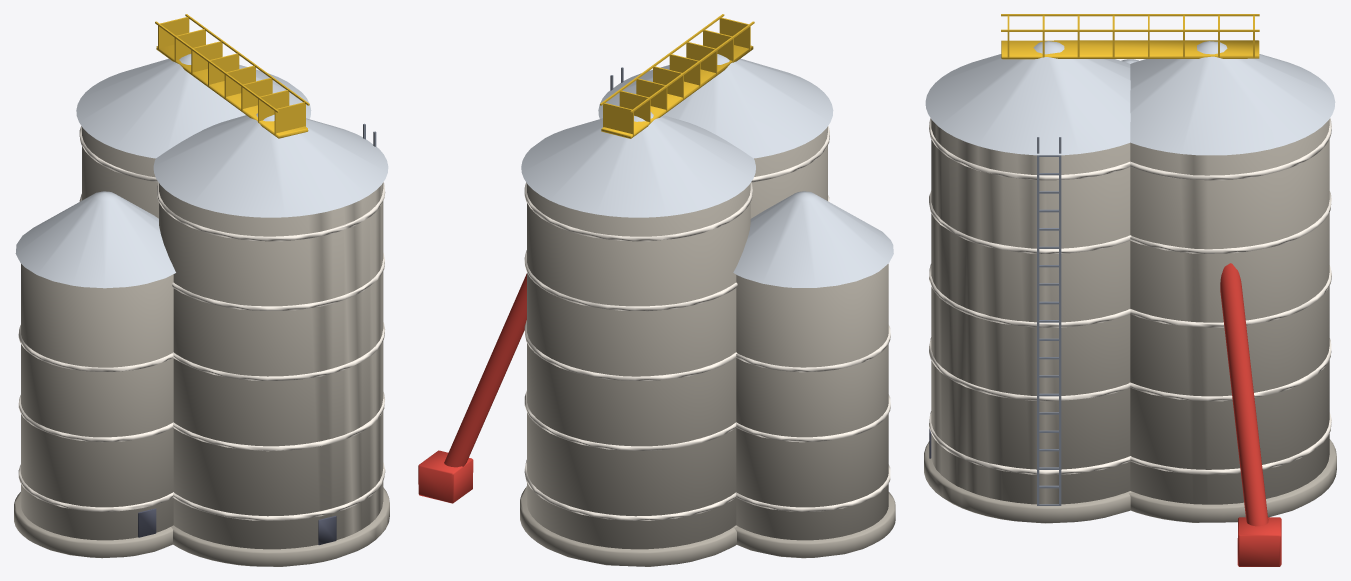
Rendered from grain_silo.glb.
The picture shows the model from 3 angles, left to right: view 1: azimuth 30°, elevation 25°; view 2: azimuth 150°, elevation 25°; view 3: azimuth 270°, elevation 25°; orthographic projection. The views are drawn at different scales.
Parts seen in each view (by area): view 1: grain_silo; view 2: grain_silo; view 3: grain_silo.
Part boxes in pixels (x1,y1,x2,y2): grain_silo: (14, 14, 389, 566); grain_silo: (418, 14, 895, 566); grain_silo: (924, 14, 1336, 566).
Size of the model in its own units: 12.99 by 13.42 by 11.18.
Materials: 1 (1 with a texture image).
